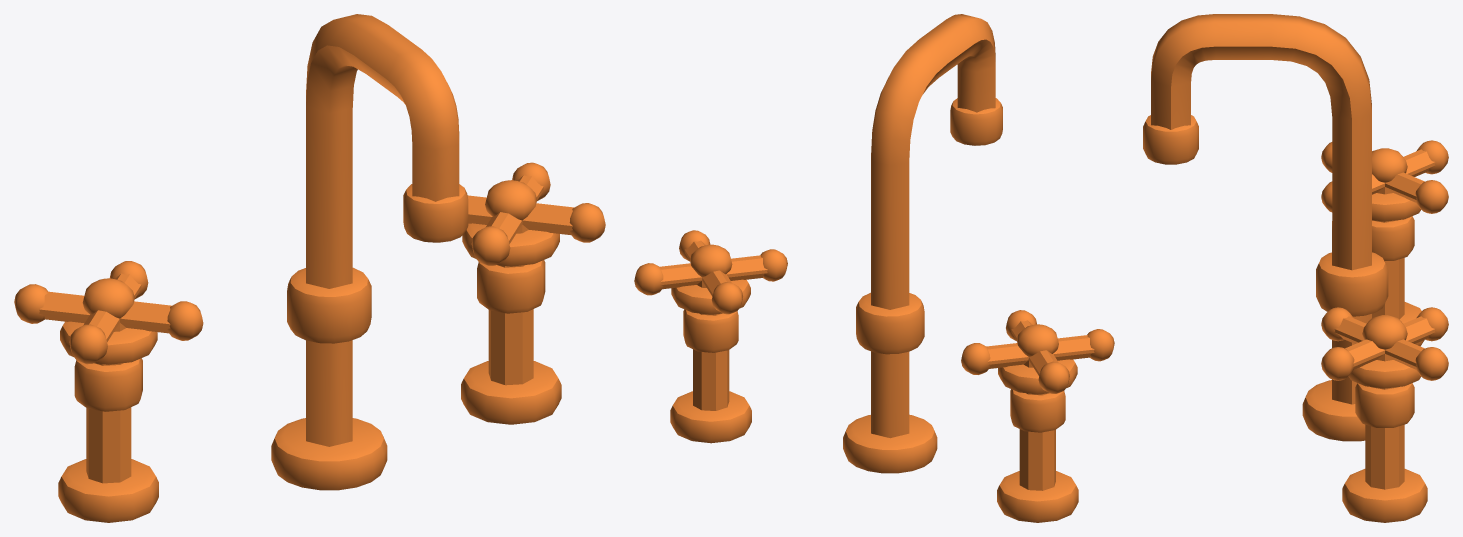
File: torneira_retro_laranja.glb
3 views of the same model, side by side, from view 1: azimuth 30°, elevation 25°; view 2: azimuth 150°, elevation 25°; view 3: azimuth 270°, elevation 25° (orthographic). The views are drawn at different scales.
Parts seen in each view (by area): view 1: torneira_retro_laranja; view 2: torneira_retro_laranja; view 3: torneira_retro_laranja.
Part boxes in pixels (box(x1,y1,x2,y2)): torneira_retro_laranja: box(14, 14, 605, 522); torneira_retro_laranja: box(634, 14, 1114, 522); torneira_retro_laranja: box(1143, 14, 1448, 522).
Bounding box in the file's own units: 0.3176 × 0.2721 × 0.1858.
1 material, 1 textured.
